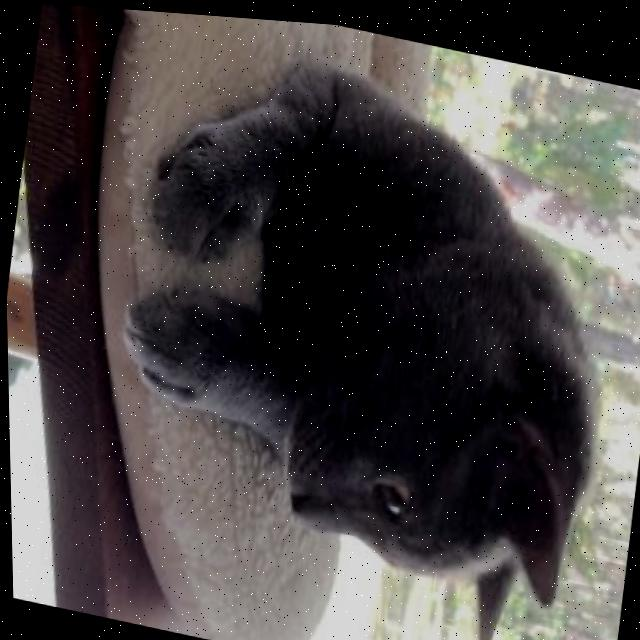Russian Blue: (72, 8, 640, 640)
